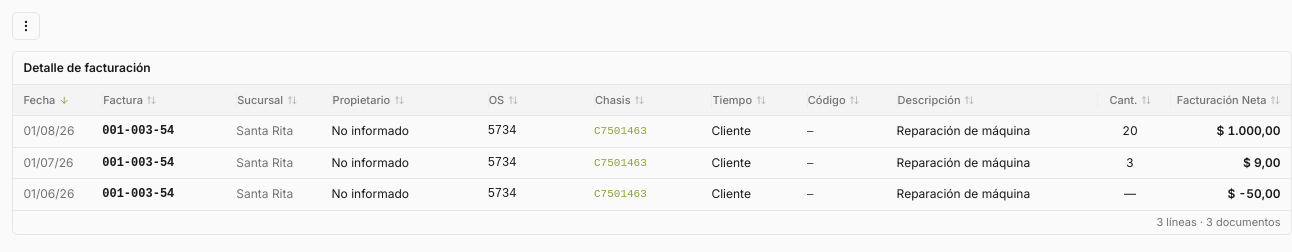
Test: invoice line detail › sorts every header both ways, uses real numeric values, preserves ties and does not refetch
The image size is (1292, 252).
Later steps or results of the test are not shown.
Expected: the text "3 líneas · 3 documentos" is shown, [1156, 214, 1280, 230]
What coordinates should you click on to do the following:
click the button with aria-label "Ordenar Facturación Neta: menor a mayor"
I would click on:
 (1226, 100)
Its box is [1171, 92, 1280, 108].
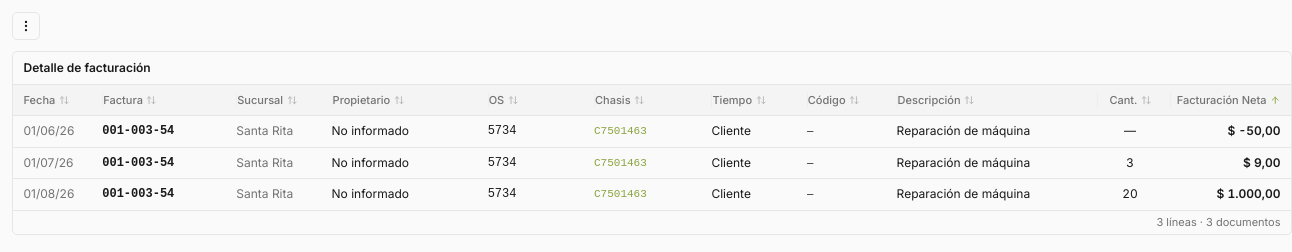
Expected: the column heading "Facturación Neta" has attribute aria-sort="ascending", [1170, 92, 1280, 108]
